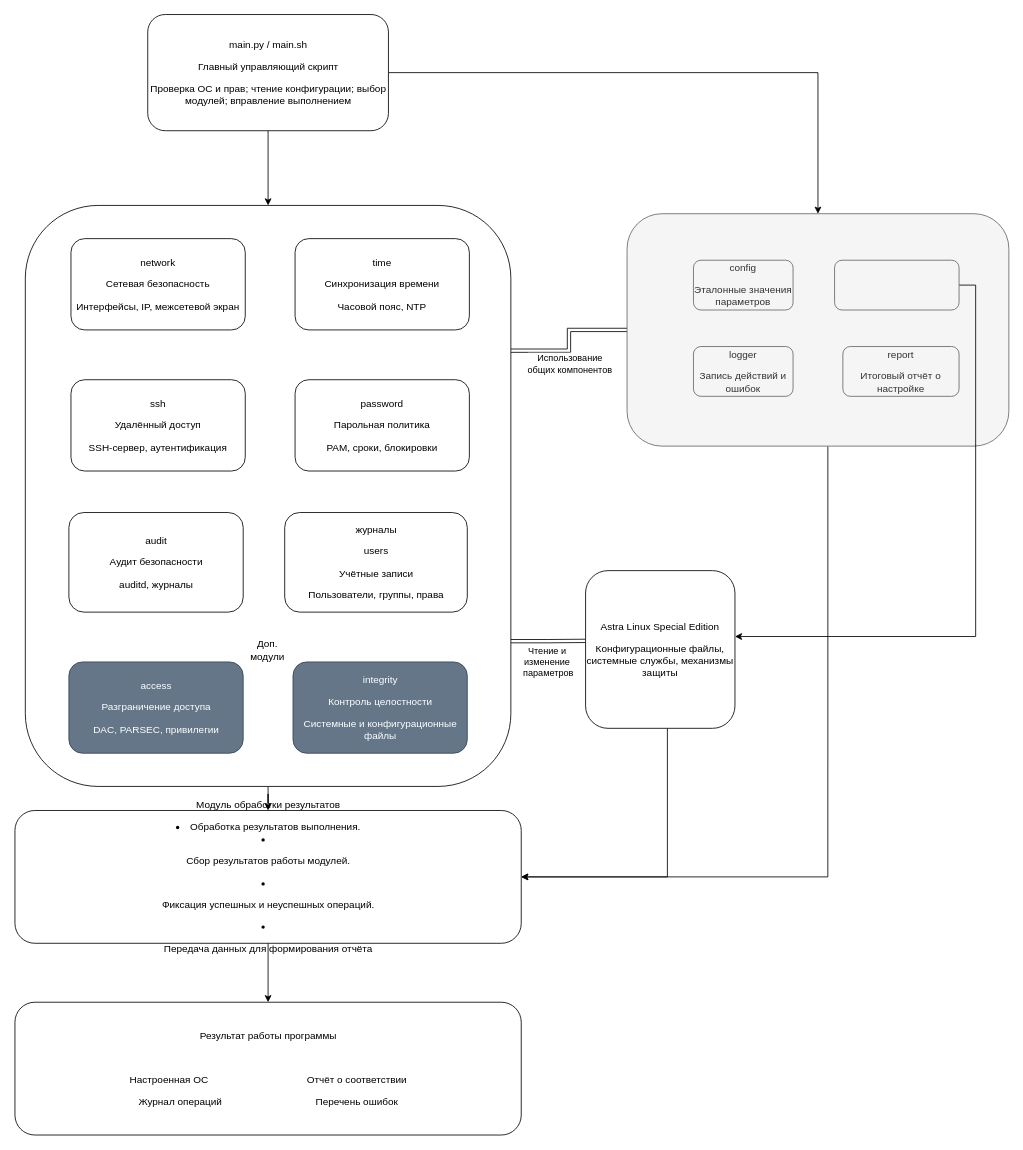
Image size: 1023x1150. Some labels were removed from this diagram. Here are the shapes that lost their labels. From the top down, the box of each, then its label:
(834, 259, 959, 310): checker проверка соответствия эталонной конфигурации.
(626, 213, 1009, 446): Примерно вспомогательные компоненты
(24, 205, 511, 786): Модкль настройки
